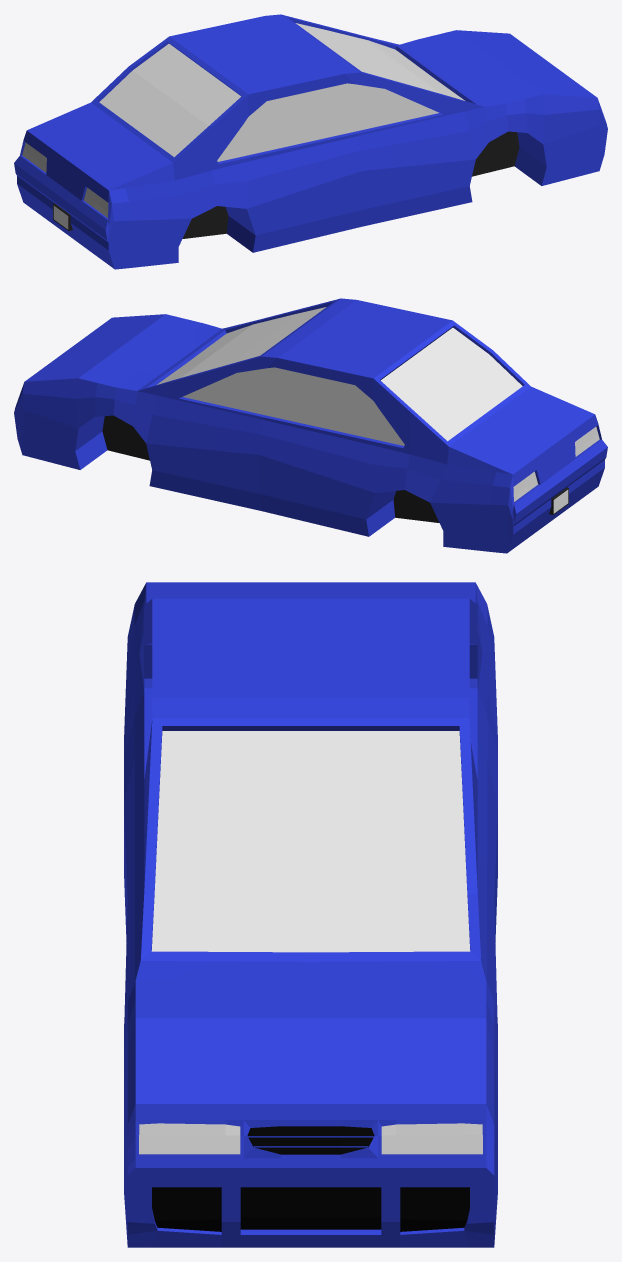
File: subaru.fbx
3 renders of one model, top to bottom at view 1: azimuth 30°, elevation 25°; view 2: azimuth 150°, elevation 25°; view 3: azimuth 270°, elevation 25°, orthographic. The views are drawn at different scales.
Visible parts, largest first — view 1: Body; view 2: Body; view 3: Body.
Boxes of the visible parts, left/top/right/bottom form: Body: left=14, top=14, right=607, bottom=269; Body: left=14, top=298, right=607, bottom=553; Body: left=124, top=582, right=497, bottom=1247.
Bounding box in the file's own units: 3.8 × 1.13 × 1.23.
